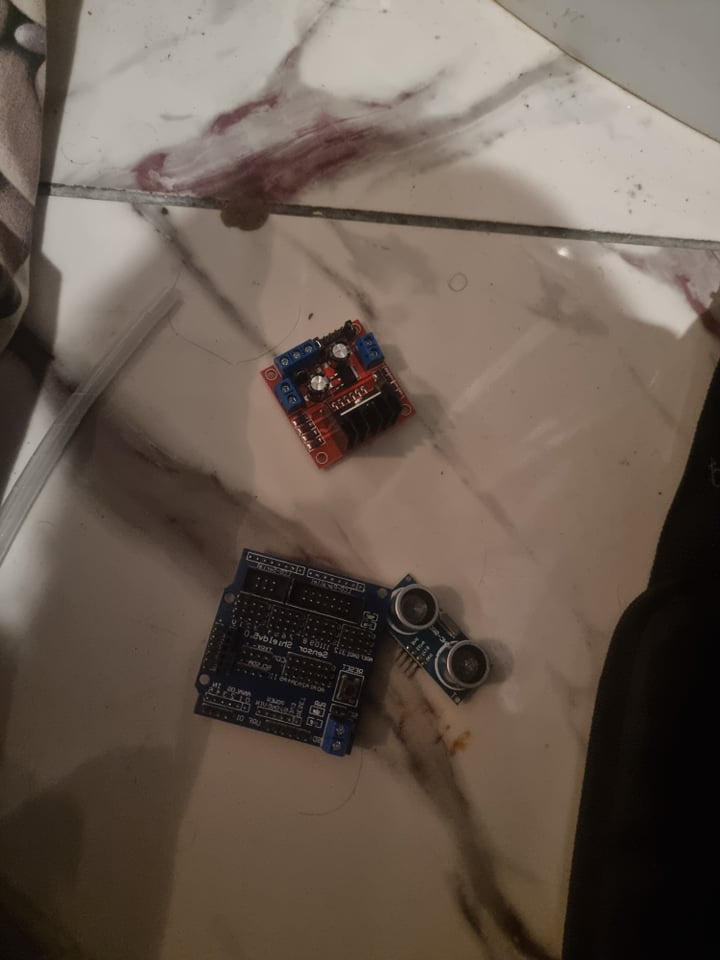5V EXPANSION: (190, 547, 387, 758)
MOTOR: (262, 320, 420, 476)
SENSOR: (393, 569, 493, 703)
